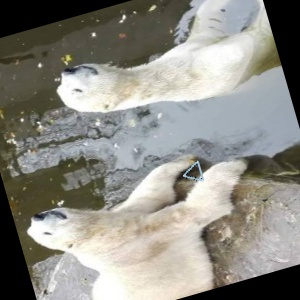triangle: (180, 159, 208, 183)
